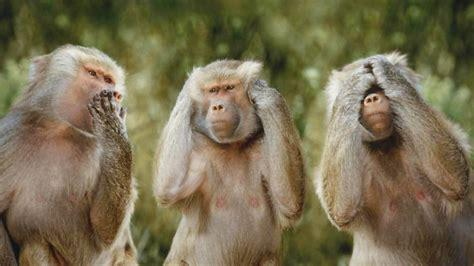monkey: (325, 58, 474, 266), (155, 61, 303, 266), (1, 46, 137, 266)
